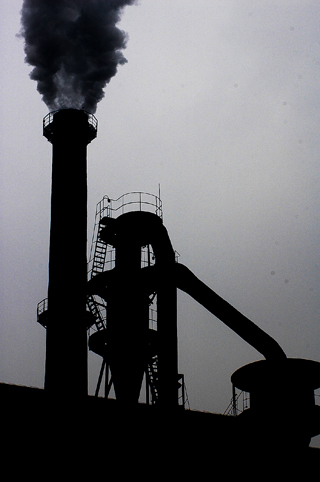dust: (12, 3, 155, 114)
